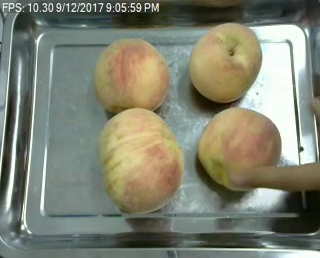Peach: (98, 108, 181, 215), (198, 106, 280, 191), (94, 36, 171, 115), (187, 22, 262, 102)
